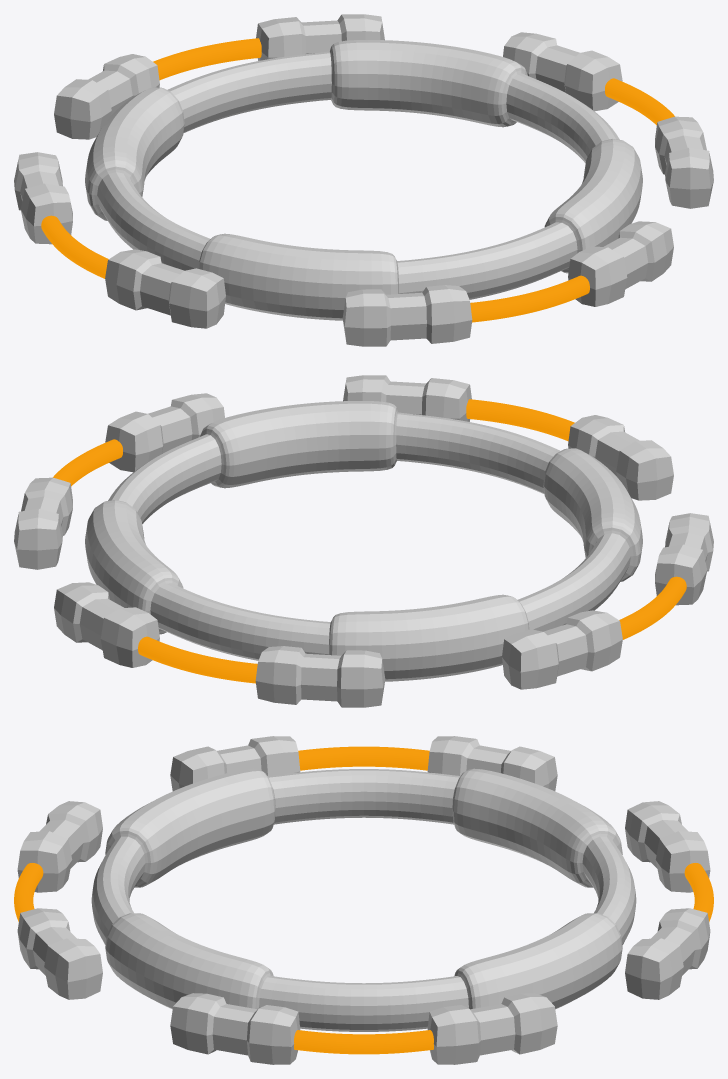
Rendered from gyrocomp.glb.
3 views of the same model, one above another, from view 1: azimuth 30°, elevation 25°; view 2: azimuth 150°, elevation 25°; view 3: azimuth 270°, elevation 25° (orthographic).
Visible parts, largest first — view 1: Cylinder, Cylinder.001, Cylinder.002; view 2: Cylinder, Cylinder.001, Cylinder.002; view 3: Cylinder, Cylinder.001, Cylinder.002.
Part boxes in pixels (x1,y1,x2,y2): Cylinder: (85, 40, 642, 320); Cylinder.001: (14, 14, 713, 346); Cylinder.002: (41, 38, 674, 322); Cylinder: (85, 401, 642, 681); Cylinder.001: (14, 375, 713, 707); Cylinder.002: (53, 399, 686, 683); Cylinder: (91, 768, 636, 1031); Cylinder.001: (17, 736, 710, 1064); Cylinder.002: (14, 746, 713, 1054).
Size of the model in its own units: 1.27 by 0.133 by 1.27.
